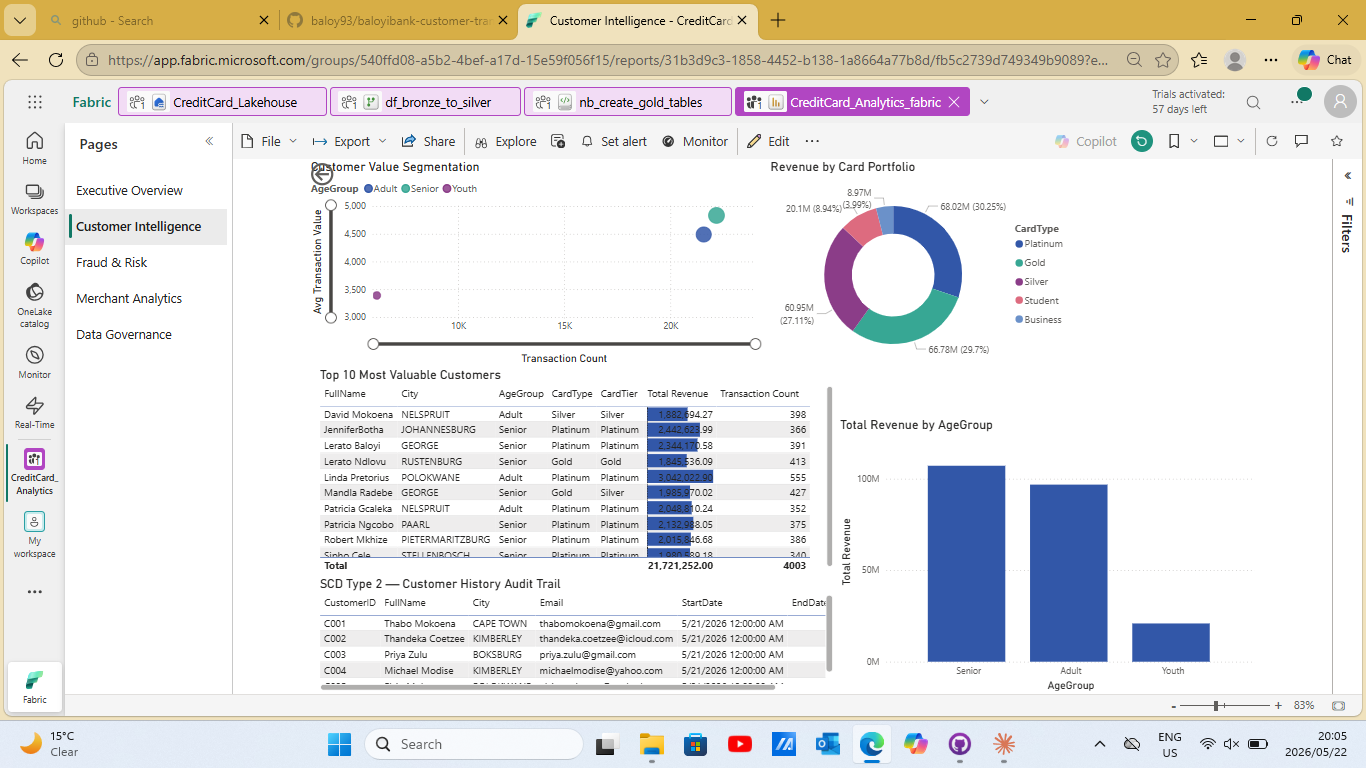

This screenshot's page, from the dashboard's own definition file:
{"tool":"powerbi","page":{"name":"Customer Intelligence","canvas":[1280,720],"ordinal":1},"visuals":[{"type":"scatterChart","title":"Customer Value Segmentation","fields":{"X":["_Measures.Transaction Count"],"Y":["_Measures.Avg Transaction Value"],"Size":["_Measures.Total Revenue"],"Series":["dim_customer.AgeGroup"]},"box":[0,0,618.2,280.5],"z":0},{"type":"tableEx","title":"Top 10 Most Valuable Customers","fields":{"Values":["dim_customer.FullName","dim_customer.City","dim_customer.AgeGroup","dim_card.CardType","dim_card.CardTier","_Measures.Total Revenue","_Measures.Transaction Count"]},"box":[11.8,280.5,700.5,280.5],"z":1000},{"type":"actionButton","box":[0,0,100,40],"z":2000},{"type":"donutChart","title":"Revenue by Card Portfolio","fields":{"Y":["_Measures.Total Revenue"],"Category":["dim_card.CardType"]},"box":[618.2,0,416.6,292.3],"z":3000},{"type":"clusteredColumnChart","fields":{"Y":["_Measures.Total Revenue"],"Category":["dim_customer.AgeGroup"]},"box":[712.2,347.7,567.8,372.9],"z":4000},{"type":"tableEx","title":"SCD Type 2 — Customer History Audit Trail","fields":{"Values":["dim_customer.CustomerID","dim_customer.FullName","dim_customer.City","dim_customer.Email","dim_customer.StartDate","dim_customer.EndDate","dim_customer.IsCurrent"]},"box":[12,562,700,158],"z":5000}]}

Visuals, with their boxes on the page's 1280x720 design canvas (x1, y1, x2, y2). These are canvas units, not pixel positions in the 1366x768 screenshot, which may show the page scaled, cropped or inside an application window:
"Customer Value Segmentation" scatterChart: select_region(0, 0, 618, 280)
"Top 10 Most Valuable Customers" tableEx: select_region(12, 280, 712, 561)
actionButton: select_region(0, 0, 100, 40)
"Revenue by Card Portfolio" donutChart: select_region(618, 0, 1035, 292)
clusteredColumnChart - _Measures.Total Revenue x dim_customer.AgeGroup: select_region(712, 348, 1280, 721)
"SCD Type 2 — Customer History Audit Trail" tableEx: select_region(12, 562, 712, 720)
